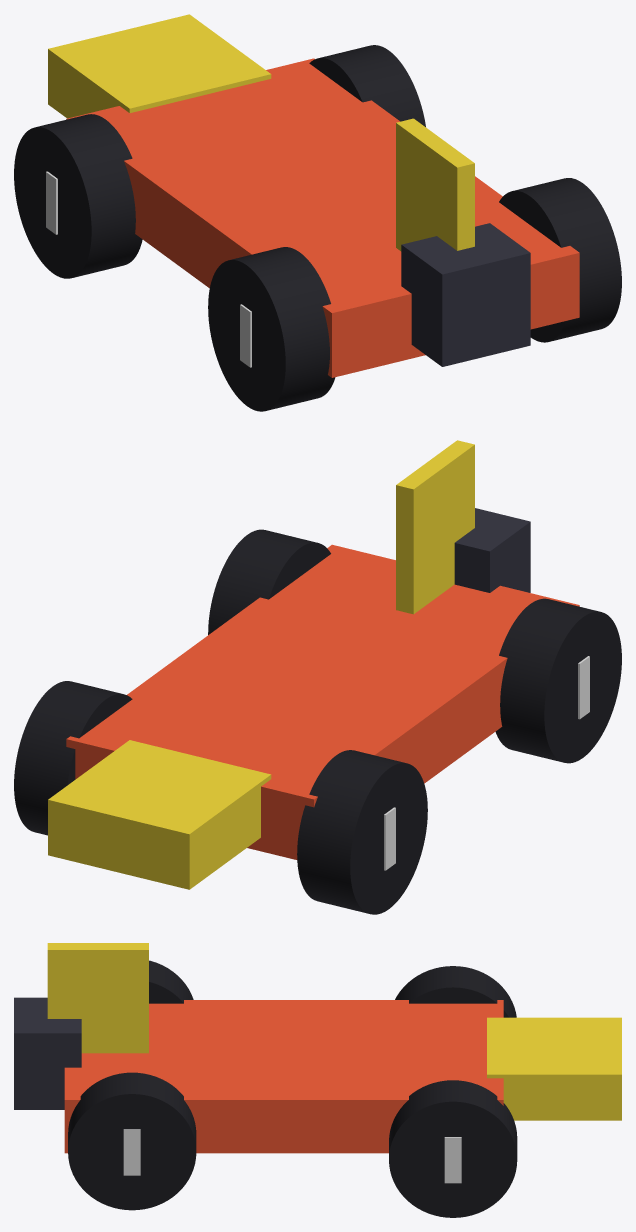
The model's file is rocket_kart.glb.
3 views of the same model, one above another, from view 1: azimuth 30°, elevation 25°; view 2: azimuth 150°, elevation 25°; view 3: azimuth 270°, elevation 25° (orthographic). The views are drawn at different scales.
Parts seen in each view (by area): view 1: Chassis, Wheel_RLMesh, Wheel_FLMesh, Nose, Exhaust, Wheel_RRMesh, Fin, Wheel_FRMesh, Wheel_FLHub, Wheel_RLHub; view 2: Chassis, Nose, Wheel_FLMesh, Wheel_RLMesh, Fin, Wheel_FRMesh, Wheel_RRMesh, Exhaust, Wheel_FLHub, Wheel_RLHub; view 3: Chassis, Wheel_RRMesh, Wheel_FRMesh, Nose, Fin, Exhaust, Wheel_FLMesh, Wheel_RLMesh, Wheel_RRHub, Wheel_FRHub.
Boxes of the visible parts, box(x1,y1,x2,y2) form: Chassis: box(66, 58, 579, 377); Wheel_RLMesh: box(208, 247, 335, 411); Wheel_FLMesh: box(14, 114, 142, 278); Nose: box(48, 14, 271, 118); Exhaust: box(401, 223, 530, 366); Wheel_RRMesh: box(499, 178, 621, 342); Fin: box(396, 118, 474, 251); Wheel_FRMesh: box(309, 45, 425, 126); Wheel_FLHub: box(46, 171, 57, 234); Wheel_RLHub: box(240, 304, 251, 367); Chassis: box(66, 544, 579, 859); Nose: box(48, 740, 271, 889); Wheel_FLMesh: box(297, 750, 427, 914); Wheel_RLMesh: box(495, 598, 621, 763); Fin: box(396, 440, 474, 614); Wheel_FRMesh: box(14, 681, 132, 835); Wheel_RRMesh: box(208, 529, 330, 634); Exhaust: box(454, 508, 530, 592); Wheel_FLHub: box(384, 807, 395, 870); Wheel_RLHub: box(578, 656, 589, 719); Chassis: box(64, 1000, 503, 1153); Wheel_RRMesh: box(68, 1072, 196, 1210); Wheel_FRMesh: box(389, 1080, 517, 1217); Nose: box(487, 1017, 621, 1120); Fin: box(47, 943, 148, 1053); Exhaust: box(14, 997, 81, 1109); Wheel_FLMesh: box(395, 966, 516, 1017); Wheel_RLMesh: box(149, 960, 193, 1003); Wheel_RRHub: box(123, 1129, 140, 1175); Wheel_FRHub: box(444, 1137, 461, 1183).
Size of the model in its own units: 1.92 by 1.33 by 3.6.
